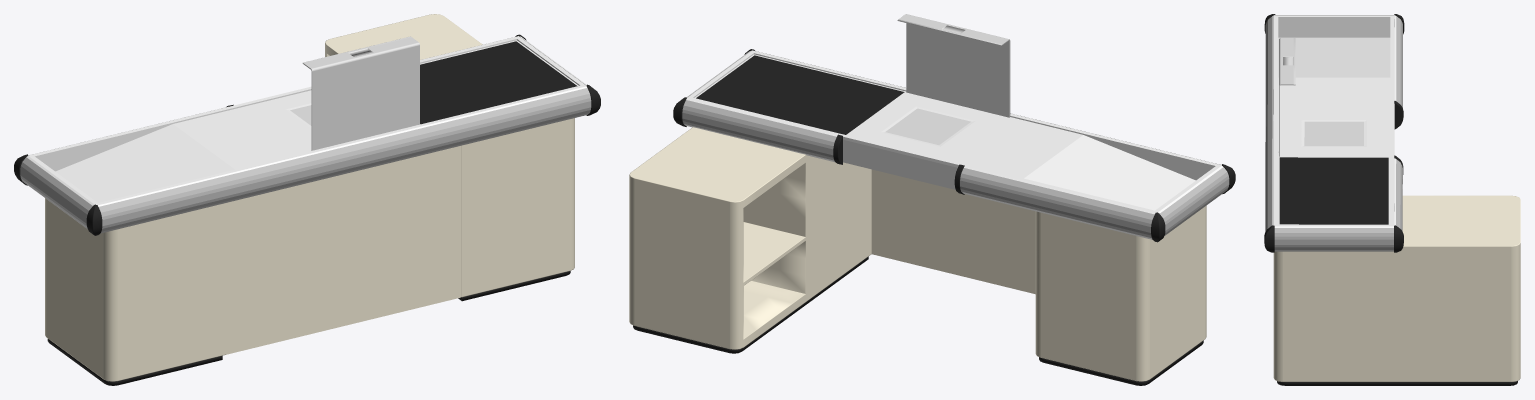
File: cashierTable.glb
3 views of the same model, side by side, from view 1: azimuth 30°, elevation 25°; view 2: azimuth 150°, elevation 25°; view 3: azimuth 270°, elevation 25° (orthographic). The views are drawn at different scales.
Parts seen in each view (by area): view 1: Cube.001; view 2: Cube.001; view 3: Cube.001.
Part boxes in pixels (box(x1,y1,x2,y2)): Cube.001: box(14, 14, 600, 385); Cube.001: box(629, 14, 1235, 385); Cube.001: box(1264, 14, 1520, 385).
Size of the model in its own units: 2.59 by 1.3 by 1.28.
